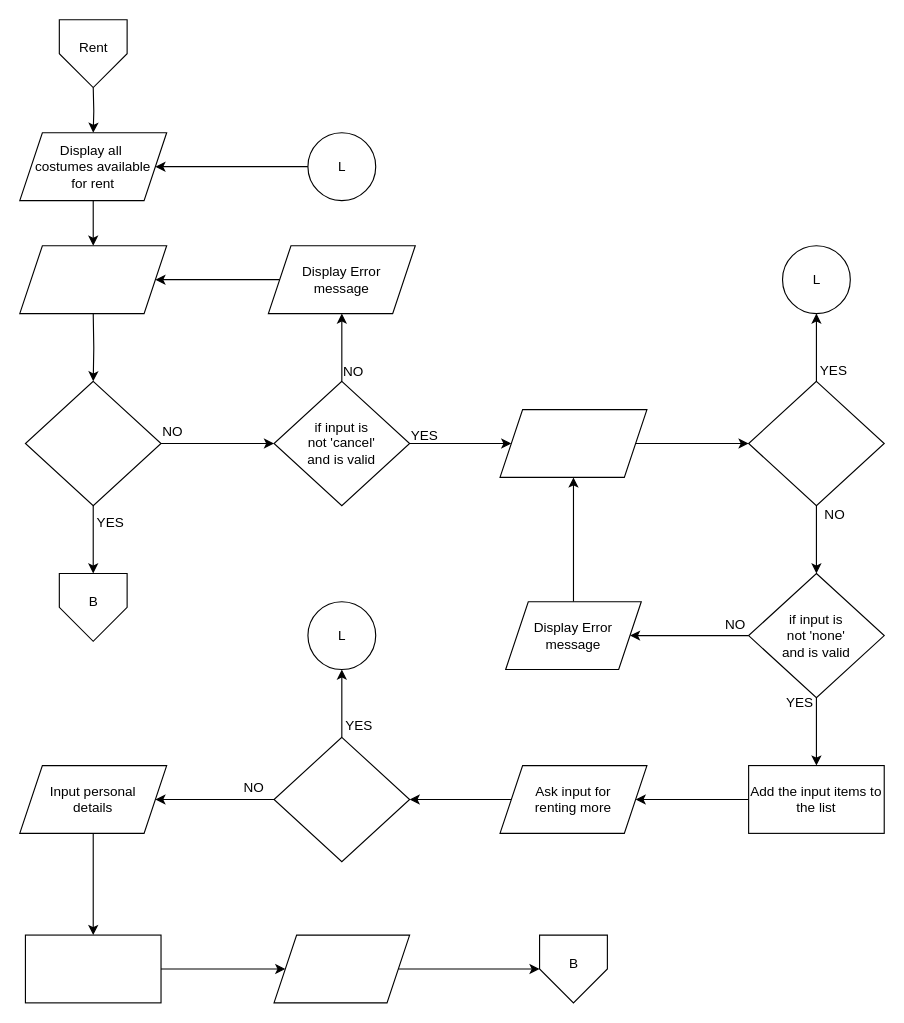
This 904x1023 diagram has some shape labels left out. The shapes that lost their labels are listed below. From the top down, each one's centre as x and y in pixels, then its label:
(x=93, y=279): Take Input of Serial Number
(x=92, y=443): if input is 'cancel'
(x=573, y=442): Take Input of quantity
(x=815, y=443): if input is 'none'
(x=341, y=799): if input is yes
(x=92, y=968): Create bill in new txt file
(x=341, y=968): Display txt file of bill
